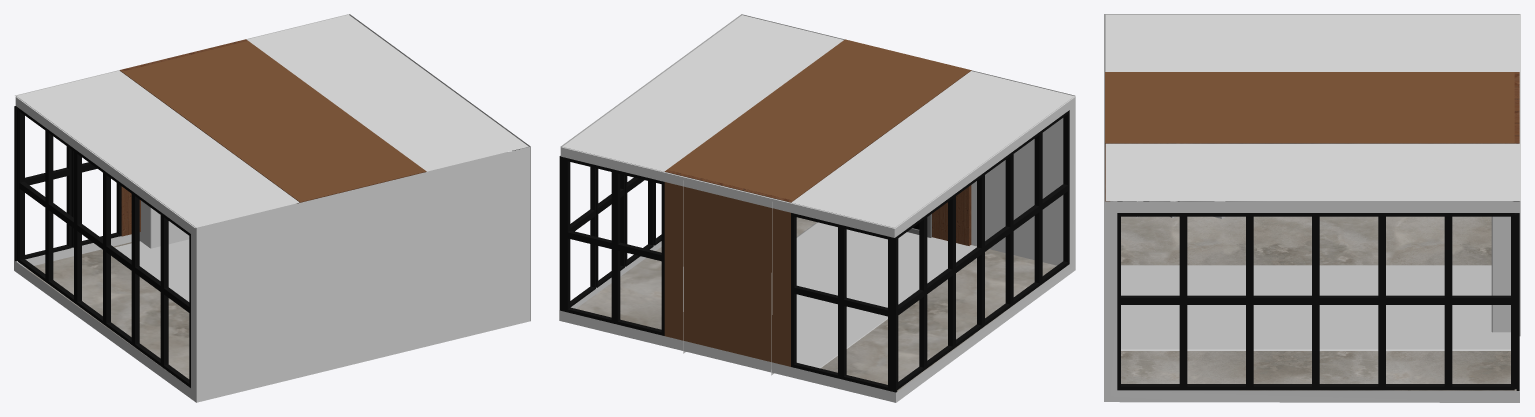
File: room2.fbx
3 views of the same model, side by side, from view 1: azimuth 30°, elevation 25°; view 2: azimuth 150°, elevation 25°; view 3: azimuth 270°, elevation 25° (orthographic). The views are drawn at different scales.
Parts seen in each view (by area): view 1: Wall, Ceiling, WoodWall, WindowCill, Floor, Wall2, Rug, Cube; view 2: WoodWall, Ceiling, WindowCill, Wall2, Floor, Rug, Wall; view 3: Ceiling, WoodWall, Floor, Rug, WindowCill, Wall2, Cube, Plane.
Boxes of the visible parts, x1=… form: Wall: x1=196, y1=146, x2=530, y2=402; Ceiling: x1=14, y1=14, x2=528, y2=227; WoodWall: x1=119, y1=39, x2=426, y2=236; WindowCill: x1=14, y1=106, x2=519, y2=387; Floor: x1=25, y1=242, x2=189, y2=378; Wall2: x1=14, y1=14, x2=530, y2=402; Rug: x1=114, y1=239, x2=189, y2=301; Cube: x1=139, y1=200, x2=189, y2=248; WoodWall: x1=664, y1=39, x2=971, y2=366; Ceiling: x1=561, y1=15, x2=1075, y2=228; WindowCill: x1=559, y1=110, x2=1069, y2=392; Wall2: x1=559, y1=14, x2=1075, y2=402; Floor: x1=576, y1=217, x2=1056, y2=391; Rug: x1=796, y1=222, x2=976, y2=368; Wall: x1=741, y1=14, x2=1074, y2=265; Ceiling: x1=1105, y1=14, x2=1520, y2=200; WoodWall: x1=1105, y1=72, x2=1519, y2=201; Floor: x1=1121, y1=216, x2=1516, y2=390; Rug: x1=1121, y1=265, x2=1510, y2=350; WindowCill: x1=1117, y1=201, x2=1519, y2=390; Wall2: x1=1104, y1=14, x2=1519, y2=402; Cube: x1=1491, y1=201, x2=1520, y2=336; Plane: x1=1123, y1=201, x2=1512, y2=218.
Bounding box in the file's own units: 884 × 445 × 824.
